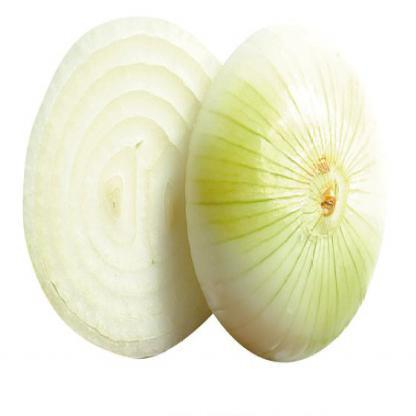onion: (194, 37, 400, 380), (12, 6, 209, 364)
